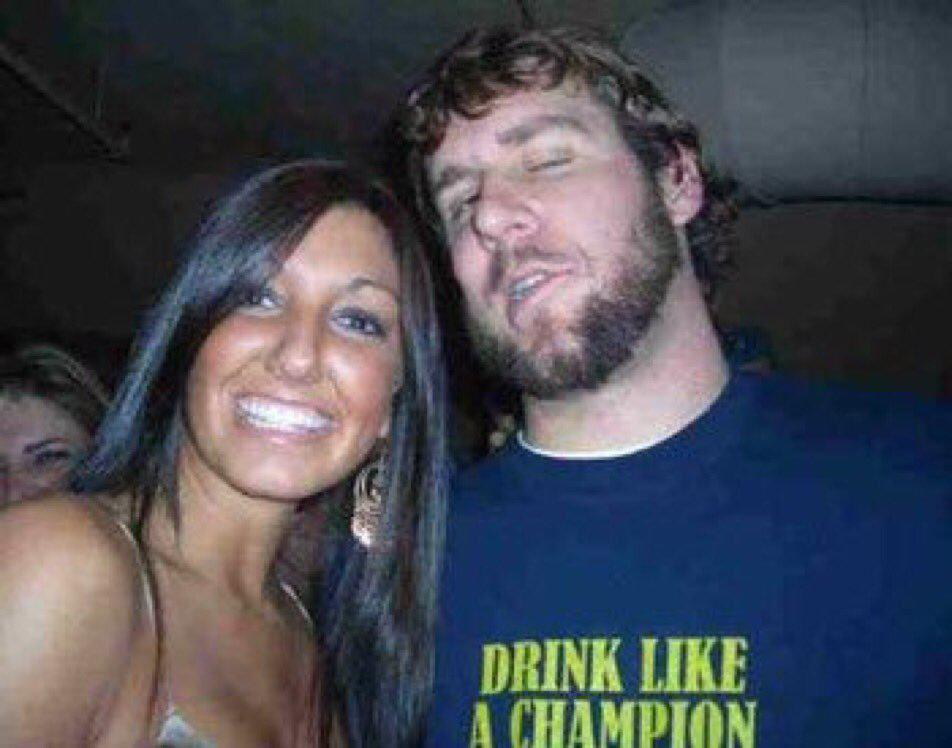Drunk: (427, 100, 663, 377), (199, 209, 391, 499)
